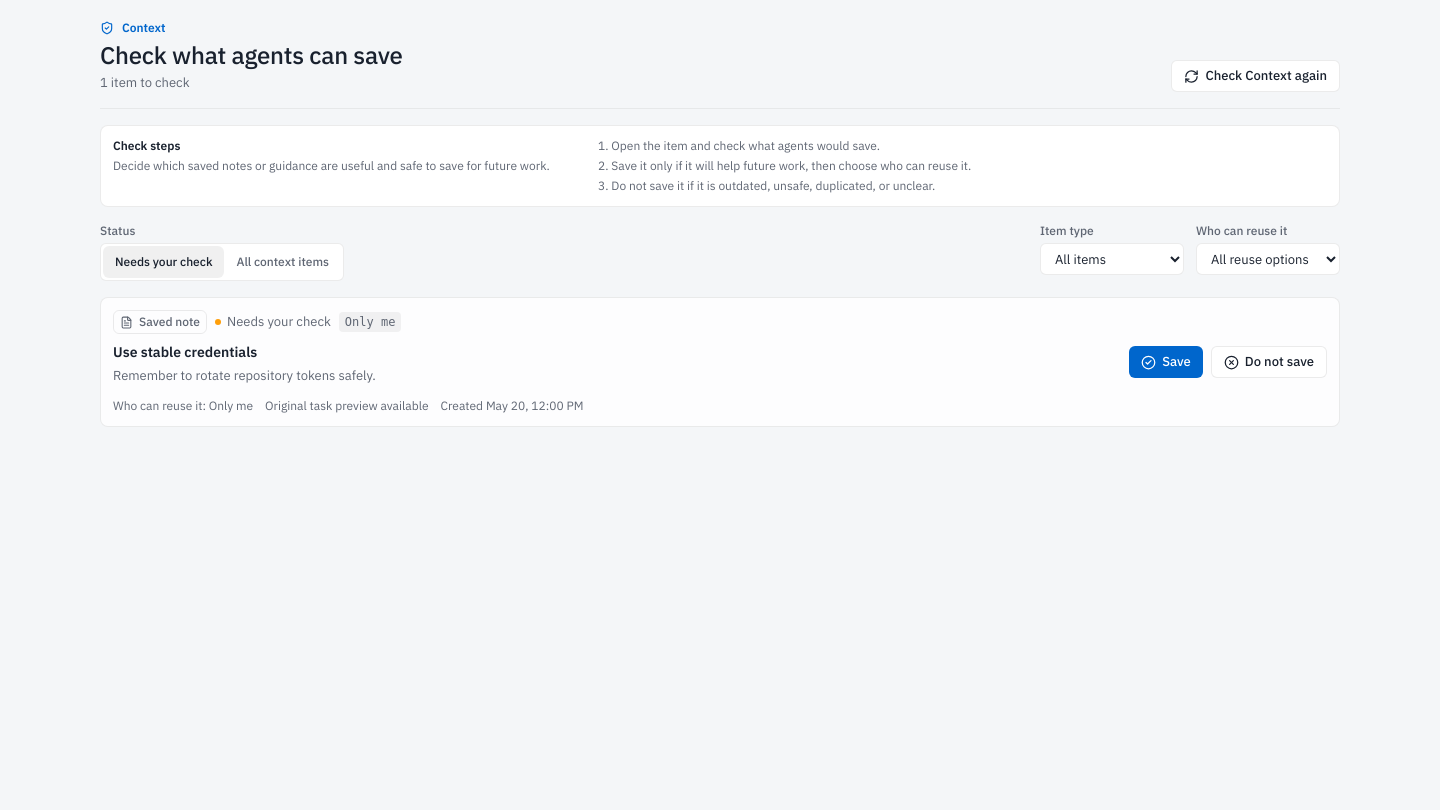
Scenario: ApprovalQueueView › shows beginner conflict guidance when approving fails
The width and height of the screenshot is (1440, 810).
Expected: the heading "Use stable credentials" is shown, top-left (113, 343), bottom-right (257, 361)
What coordinates should you click on to do the following:
click the button with test id "context-approve-candidate-1"
I would click on:
 (1166, 362)
Its box is top-left (1129, 346), bottom-right (1203, 378).
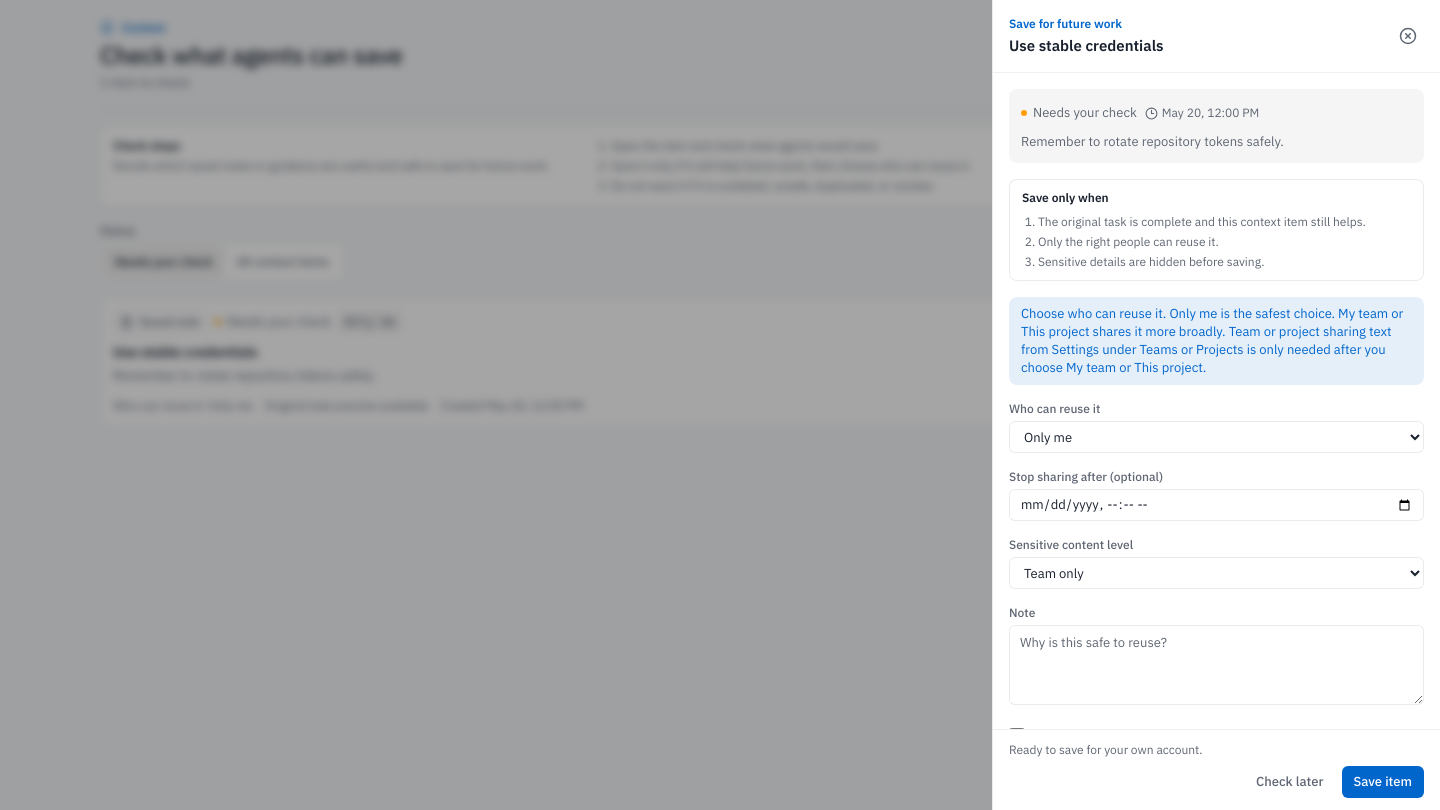
What coordinates should you click on to do the following:
click the button with test id "context-approval-submit"
I would click on:
 (1383, 782)
Its box is top-left (1342, 766), bottom-right (1424, 798).
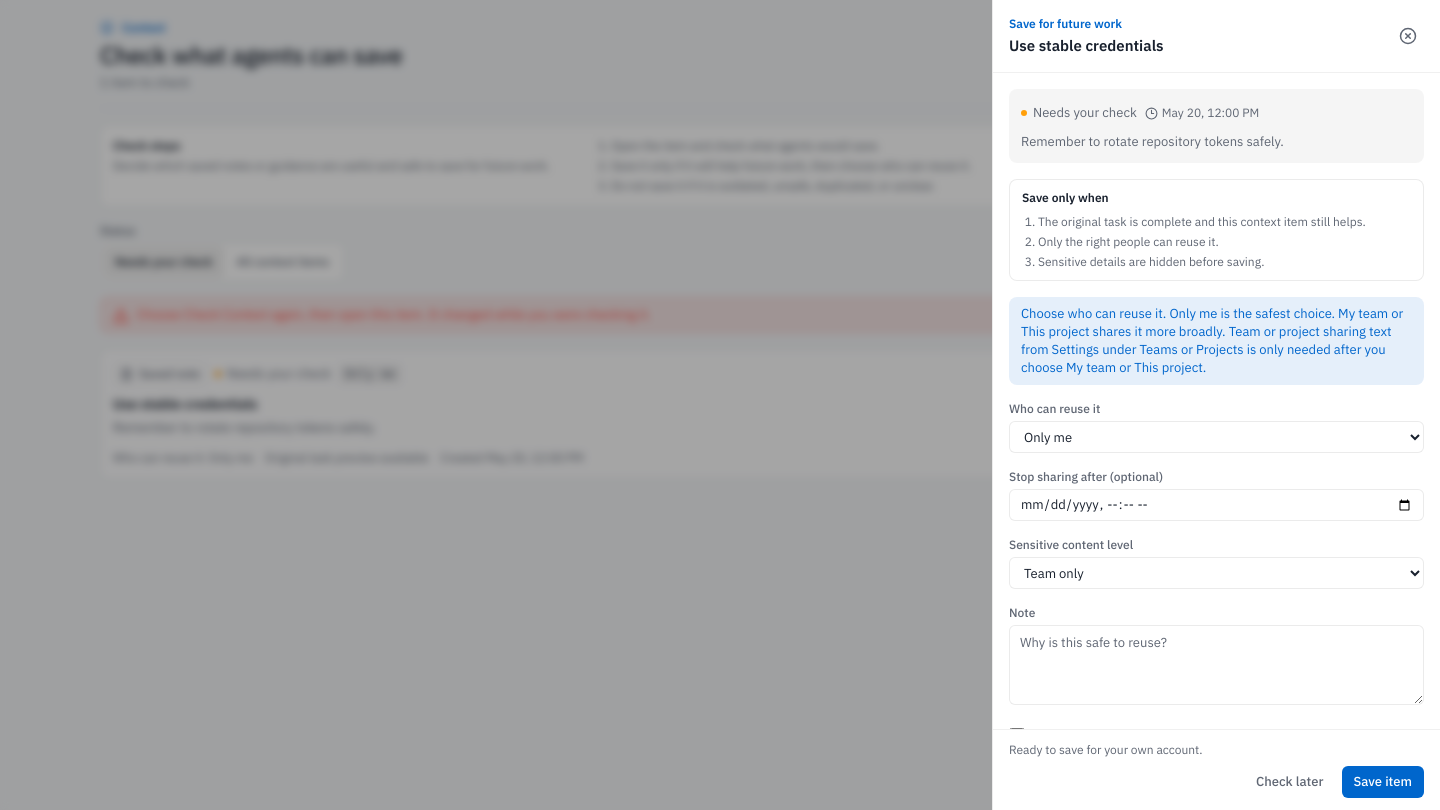
Expected: the 1st message shows "Choose Check Context again, then open this item", top-left (137, 306), bottom-right (651, 323)
Expected: the 1st message shows "It changed while you were checking it", top-left (137, 306), bottom-right (651, 323)
